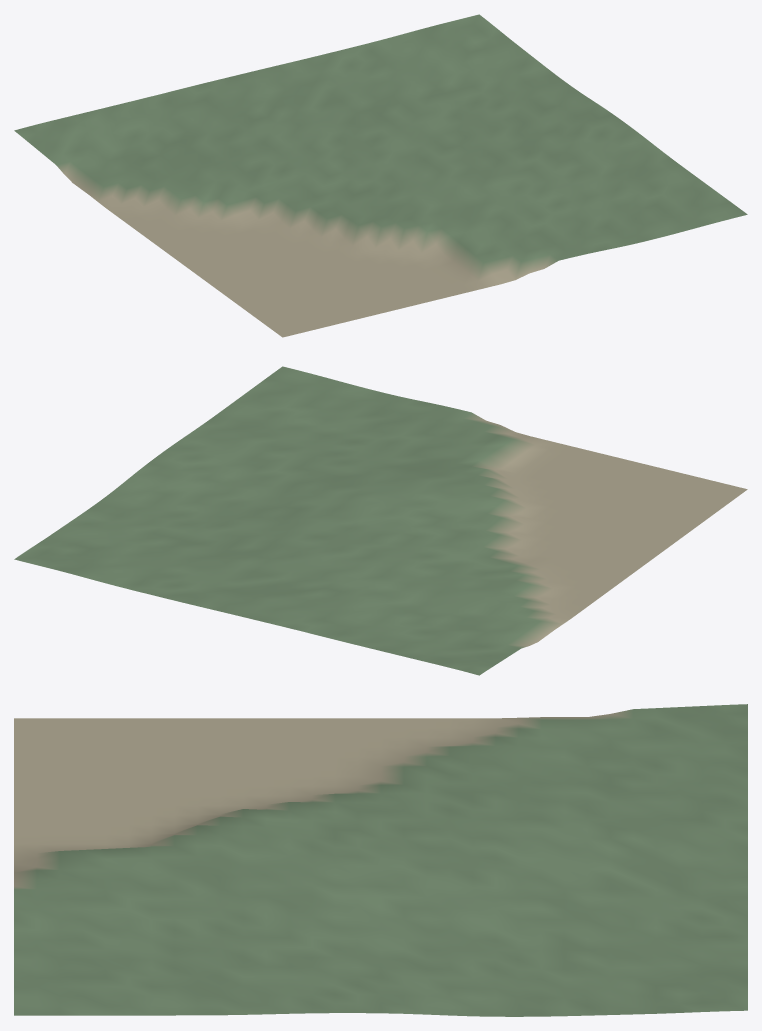
The picture shows the model from 3 angles, top to bottom: view 1: azimuth 30°, elevation 25°; view 2: azimuth 150°, elevation 25°; view 3: azimuth 270°, elevation 25°; orthographic projection. The views are drawn at different scales.
Parts seen in each view (by area): view 1: Terrain-col; view 2: Terrain-col; view 3: Terrain-col.
Part boxes in pixels (bbox=[...]): Terrain-col: bbox=[14, 14, 747, 337]; Terrain-col: bbox=[14, 366, 747, 675]; Terrain-col: bbox=[14, 704, 747, 1016].
Size of the model in its own units: 256 by 7.32 by 256.
